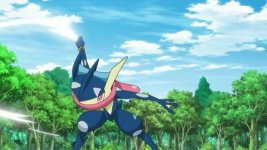greninja: (59, 31, 178, 150)
